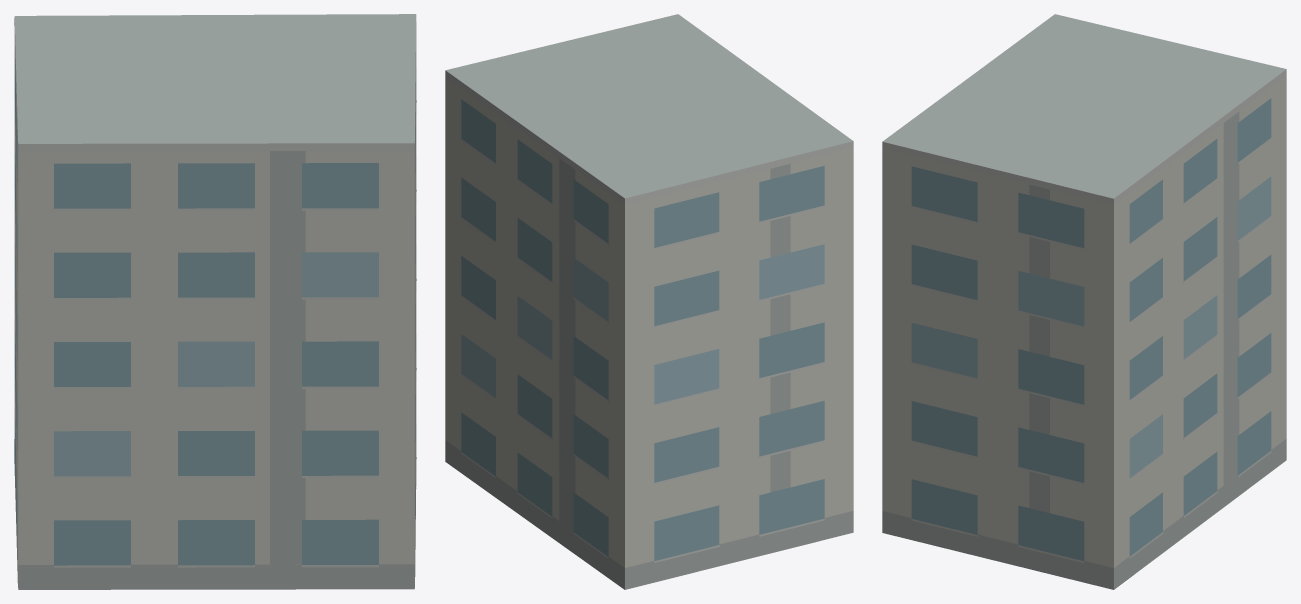
File: survey-upis-32890960.glb
The picture shows the model from 3 angles, left to right: view 1: azimuth 30°, elevation 25°; view 2: azimuth 150°, elevation 25°; view 3: azimuth 270°, elevation 25°; orthographic projection. The views are drawn at different scales.
Parts seen in each view (by area): view 1: survey-upis-32890960.tmp; view 2: survey-upis-32890960.tmp; view 3: survey-upis-32890960.tmp.
Part boxes in pixels (x1,y1,x2,y2): survey-upis-32890960.tmp: (14,14,416,589); survey-upis-32890960.tmp: (445,14,853,589); survey-upis-32890960.tmp: (882,14,1286,589).
Size of the model in its own units: 14.39 by 14.2 by 13.31.
